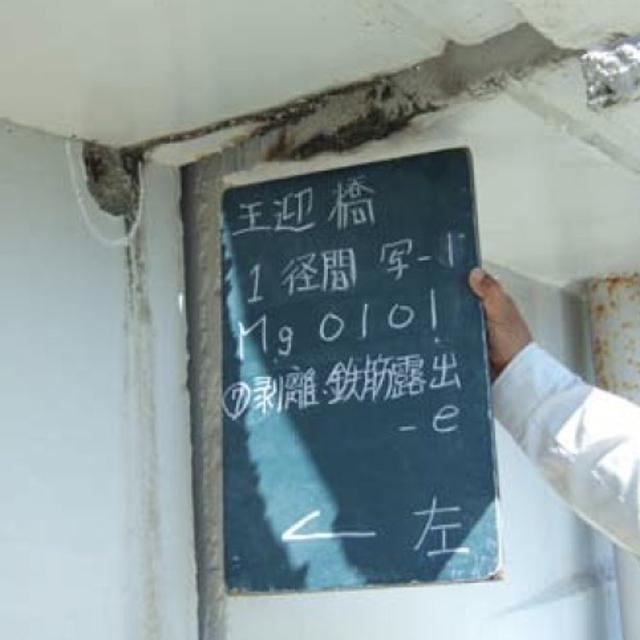spalling: (249, 56, 457, 157), (64, 83, 174, 258)
